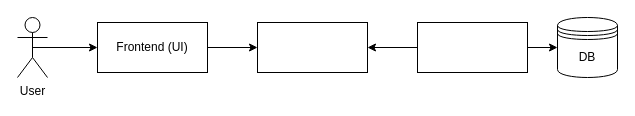
Image size: 635x116. Some labels were removed from this diagram. Each missing label, with the box of its shape:
Business Logic: (256, 22, 368, 72)
Data Access: (416, 22, 528, 72)
